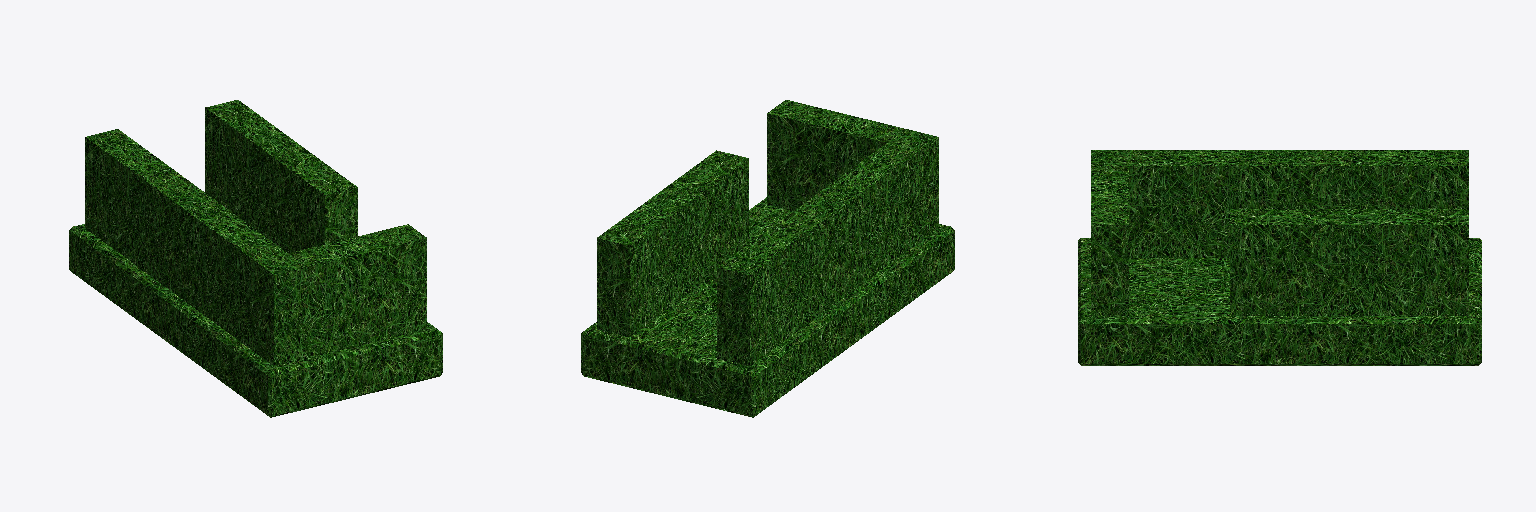
3 views of the same model, side by side, from view 1: azimuth 30°, elevation 25°; view 2: azimuth 150°, elevation 25°; view 3: azimuth 270°, elevation 25° (orthographic).
Visible parts, largest first — view 1: Hedge, Base; view 2: Hedge, Base; view 3: Hedge, Base.
Boxes of the visible parts, x1,y1,x2,y2 form: Hedge: [85, 100, 426, 366]; Base: [69, 224, 442, 417]; Hedge: [597, 100, 938, 366]; Base: [581, 197, 954, 417]; Hedge: [1091, 150, 1468, 315]; Base: [1078, 238, 1481, 365].
Size of the model in its own units: 2 by 1.5 by 4.
Materials: 2 (1 with a texture image).